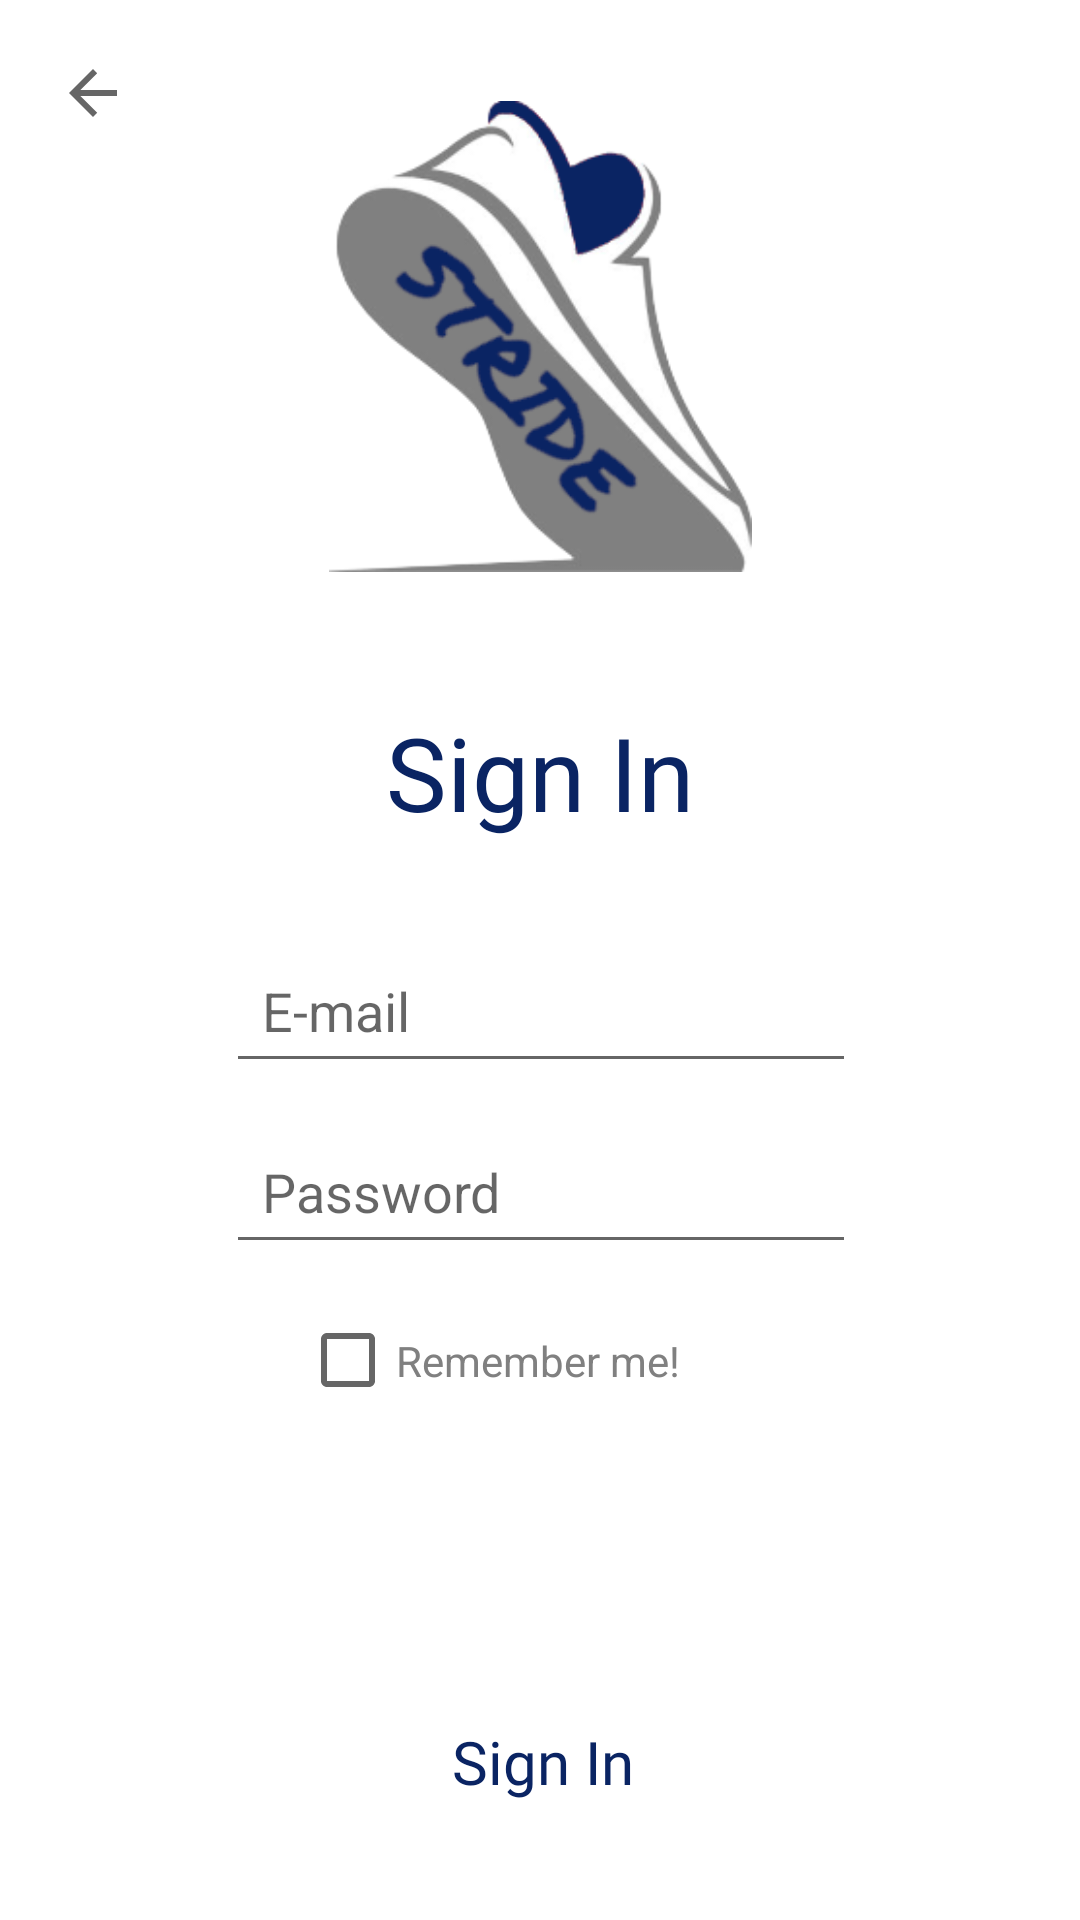

Named icons in this screenshot (1080×1920) and their bounding boxes, (x1, y1, x2, y2):
Back Button: (69, 69, 117, 117)
